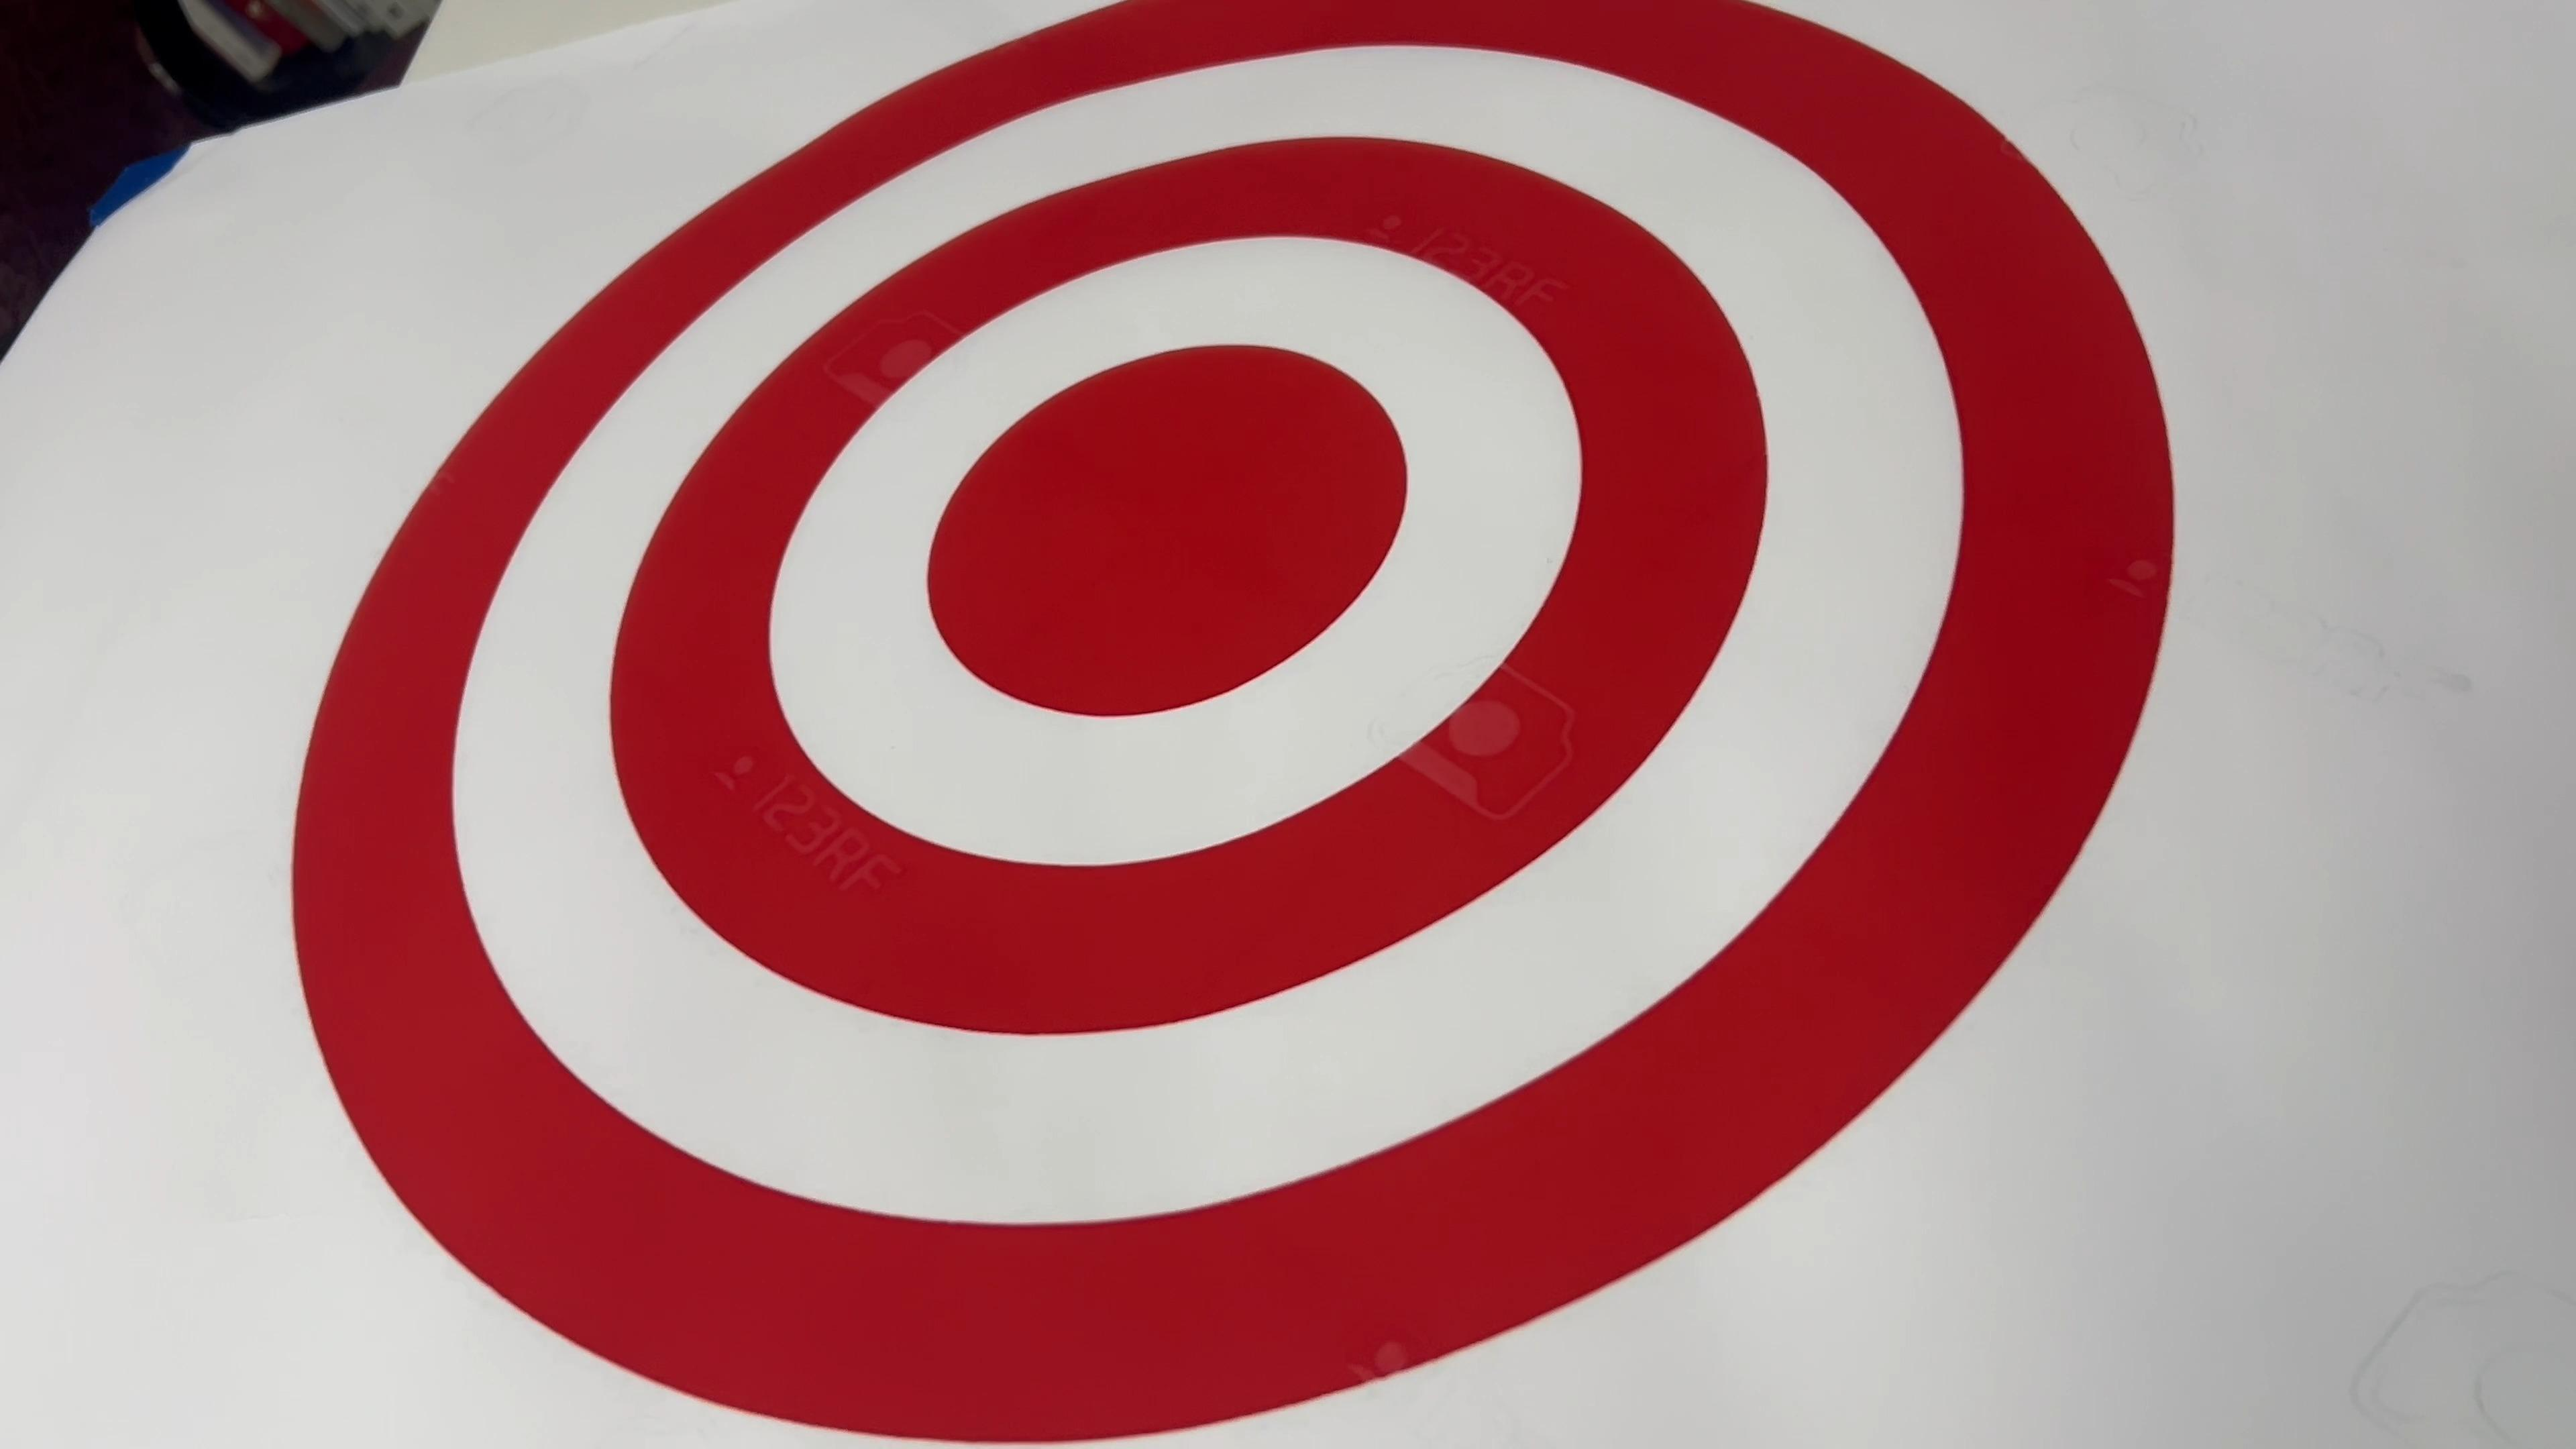target_red: (223, 0, 2203, 1449)
